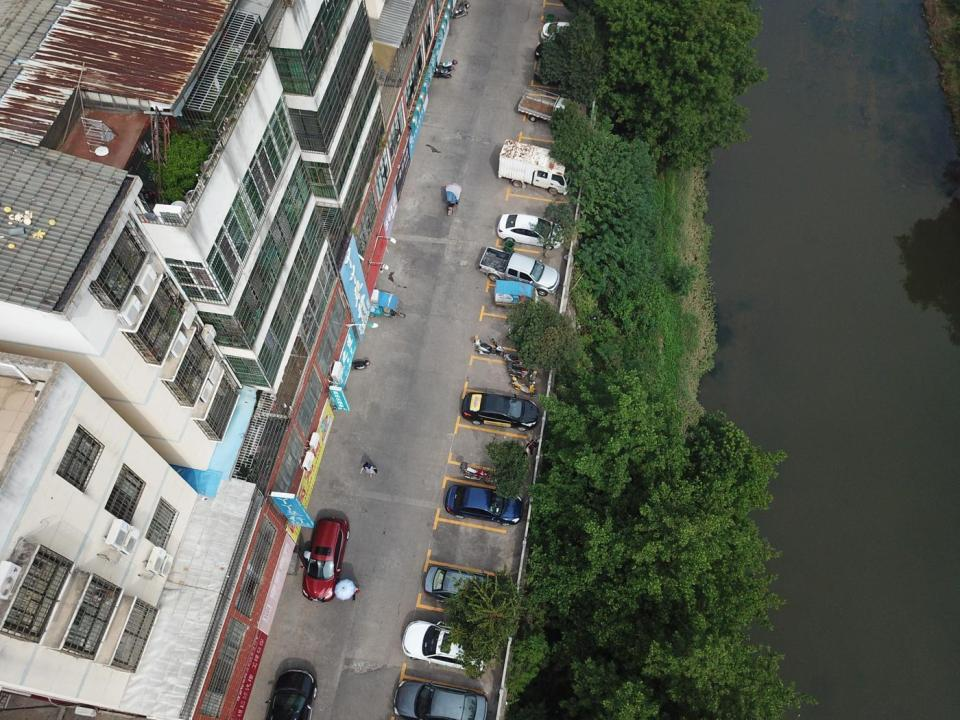car: (402, 619, 486, 672), (301, 515, 350, 604), (392, 678, 488, 720), (424, 566, 507, 608), (460, 391, 539, 432), (446, 484, 524, 525), (264, 669, 318, 720), (497, 213, 564, 249), (540, 20, 594, 48), (534, 58, 588, 85), (534, 41, 590, 64)
truck: (498, 139, 573, 194), (480, 247, 560, 295), (516, 85, 585, 126)
